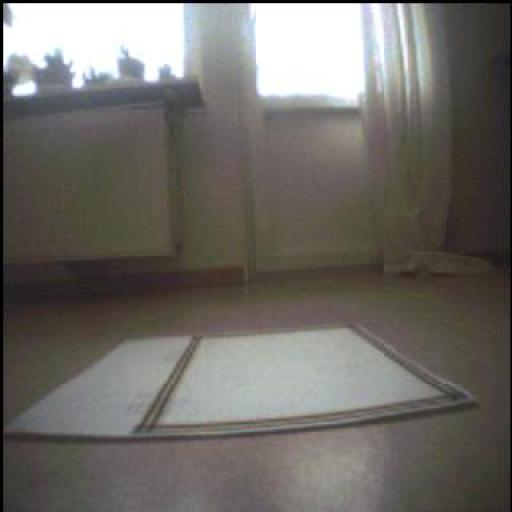Pad: (6, 328, 475, 440)
